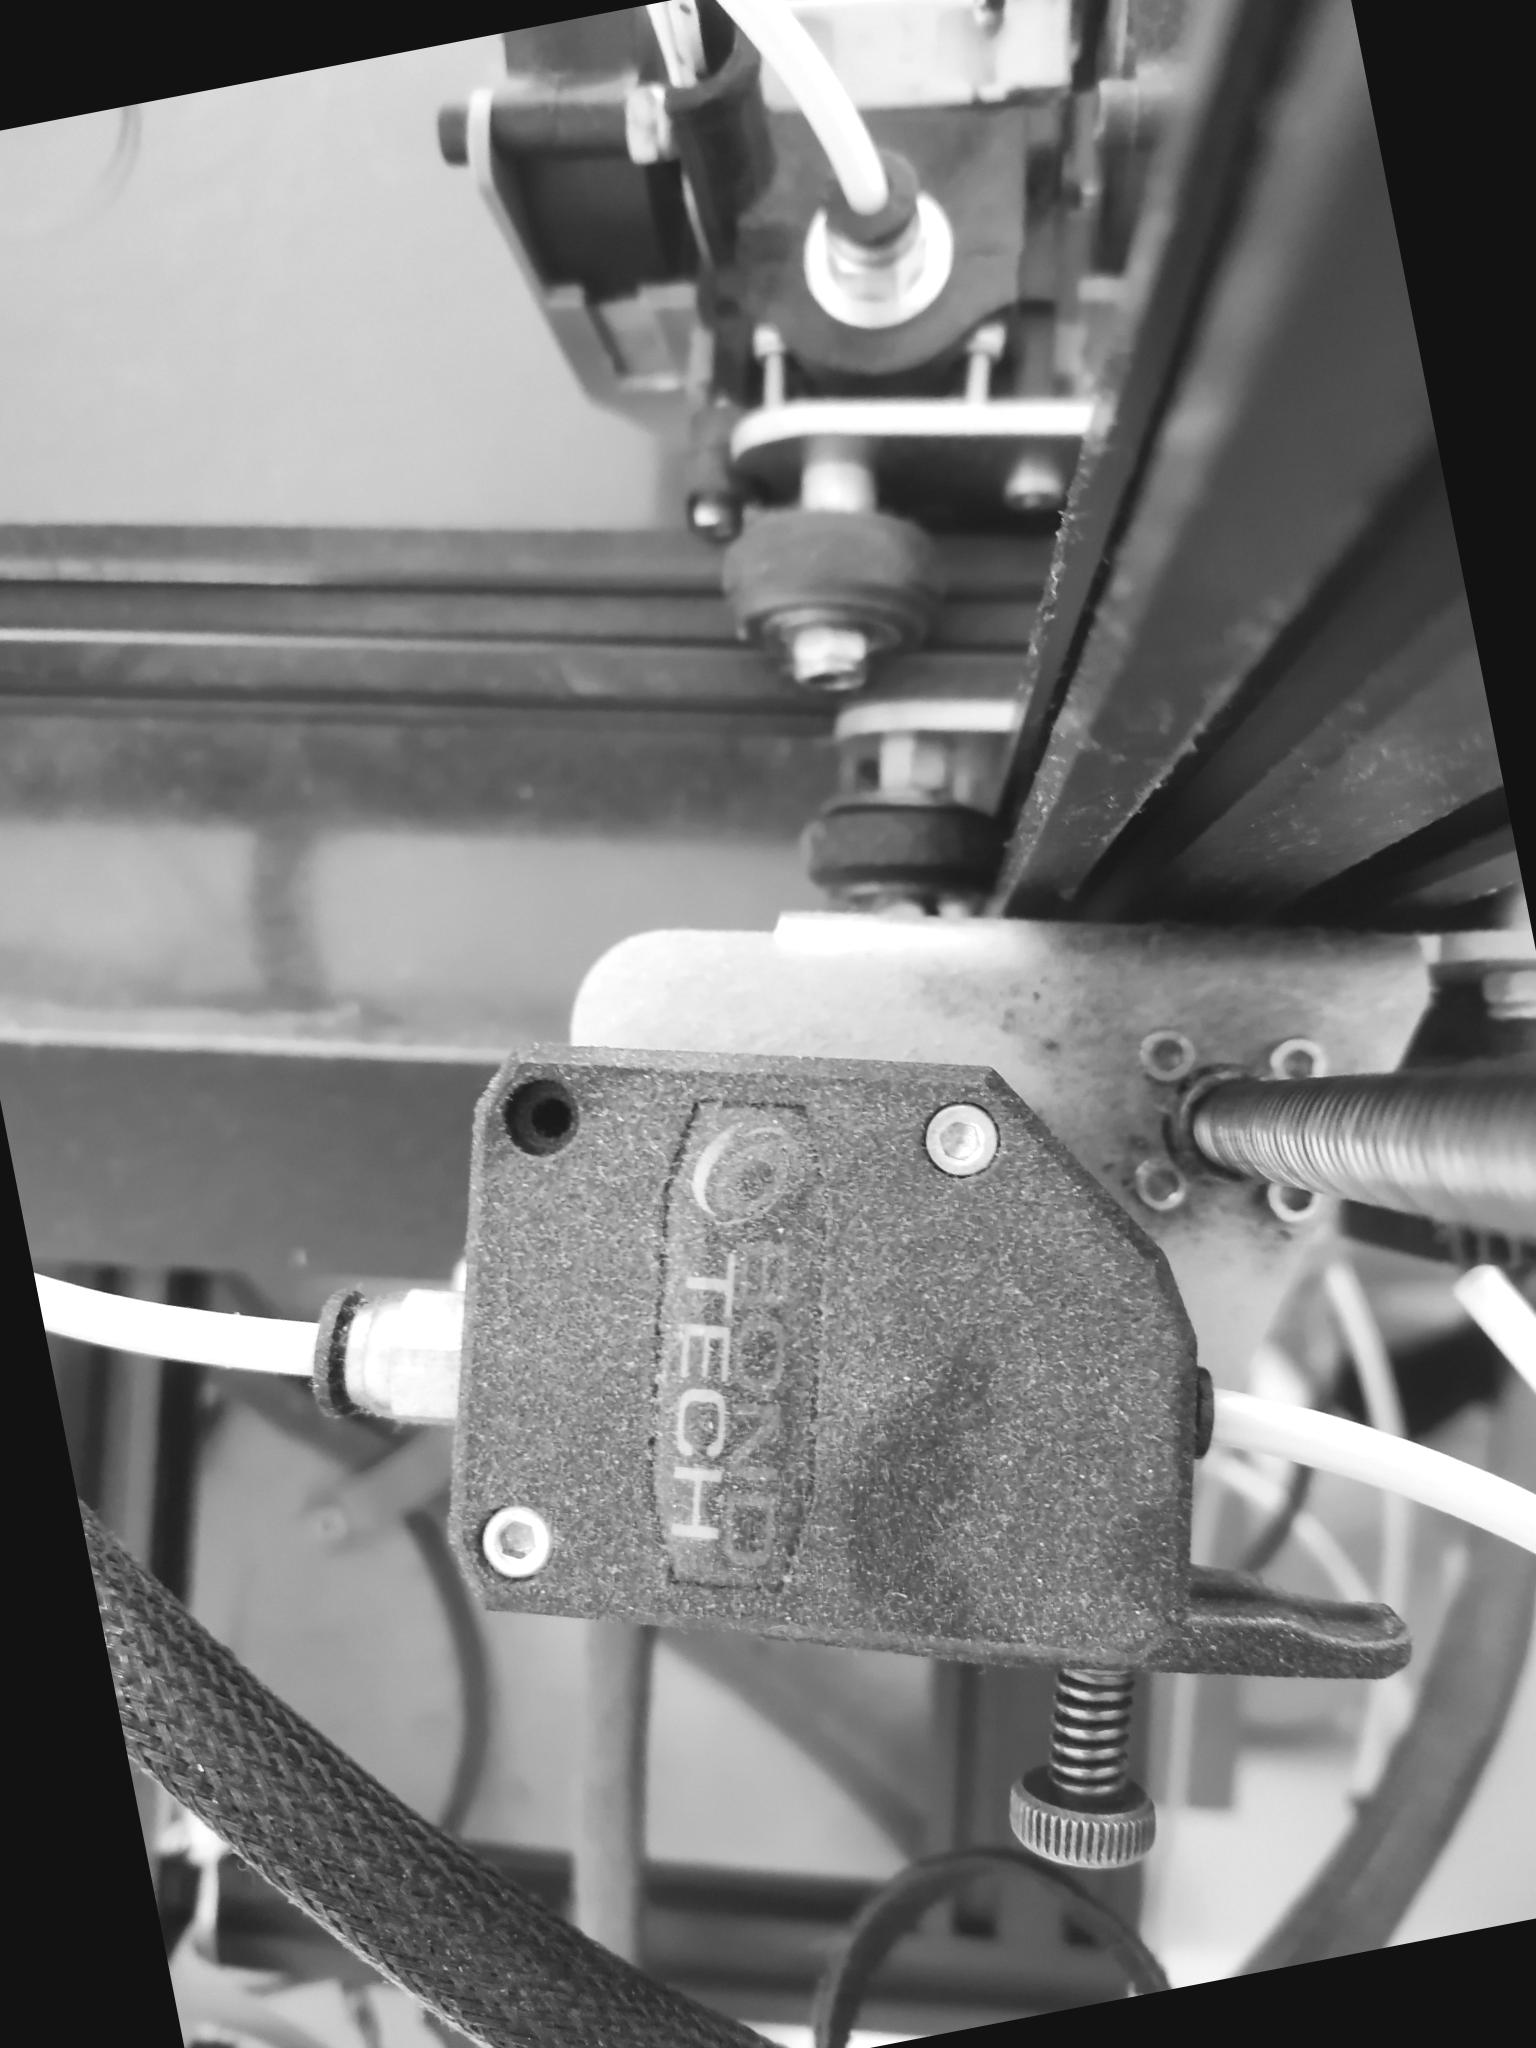screw: (463, 1496, 566, 1596), (908, 1089, 1012, 1185), (1115, 1137, 1204, 1224), (1128, 1009, 1212, 1097)
